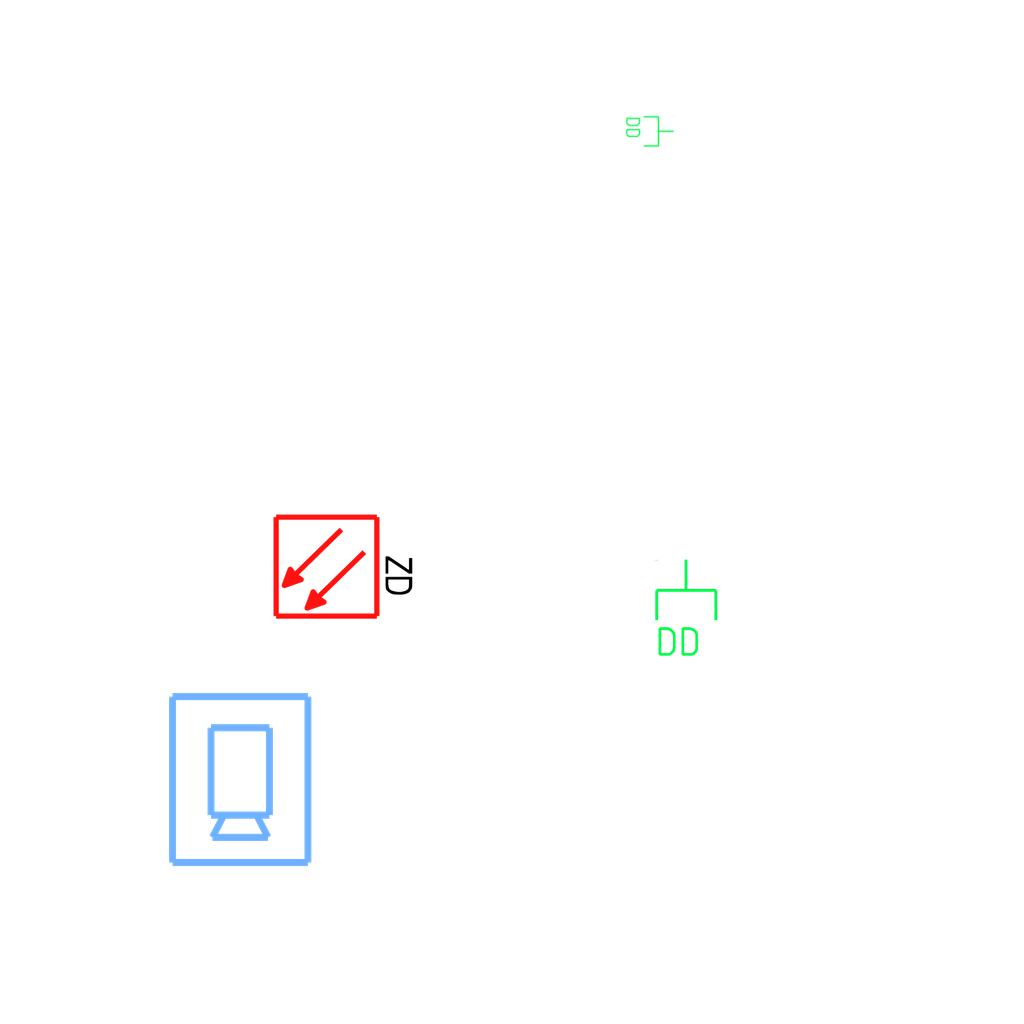Datenanschluss_zweifach: (651, 557, 720, 660), (624, 114, 675, 148)
KFO_Kamera_mit_Festobjektiv: (162, 688, 316, 870)
ZD_Melder_in_Zwischendecke_mit_Revisionsoeffnung_mind_40_x_40_cm: (271, 508, 420, 622)
